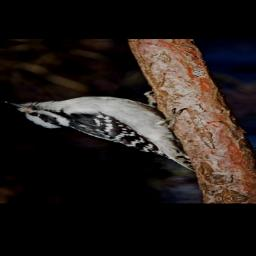Woodpecker: (0, 88, 196, 175)
